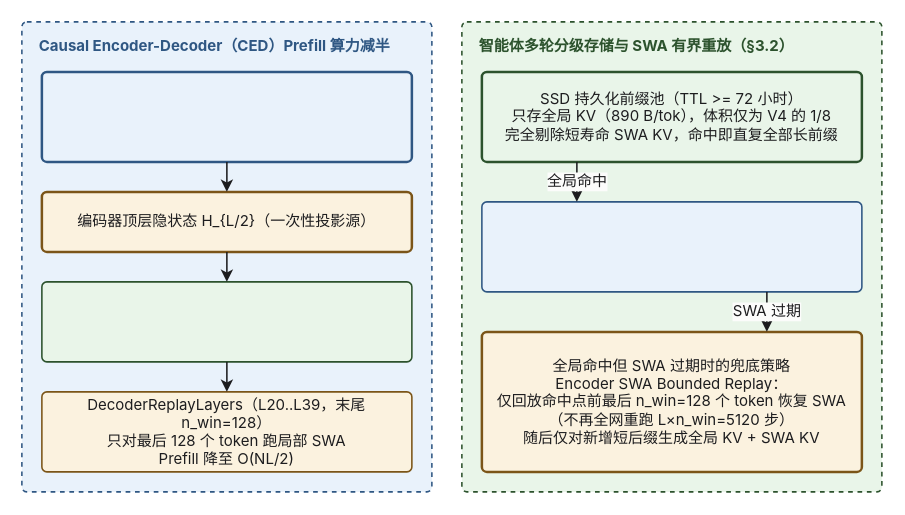
The diagram is 905 pixels wide and 515 high, and some of its shapes have lost their labels. Each missing label, with the centre of its shape:
"Causal Encoder（L0..L19，激活 ~8B） 处理完整长度 N · L2–19 (m=2) 生成 1.5 份全局 KV" belongs at pixel 226 116.
"Host DRAM 热缓冲池（10% RAM · 分钟级 TTL） 只缓存 Prompt 尾与输出尾两处 SWA 快照 活跃多轮直接命中，过期即刻回收给新会话" belongs at pixel 671 246.
"直接投影 L20..L39 全局 KV：C_l = H_{L/2} W_l^{KV} 只需在 L20 写入 1.0 份 m=1 主 KV，免跑上层 MoE" belongs at pixel 226 321.
